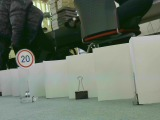speed_20: (14, 48, 35, 69)
